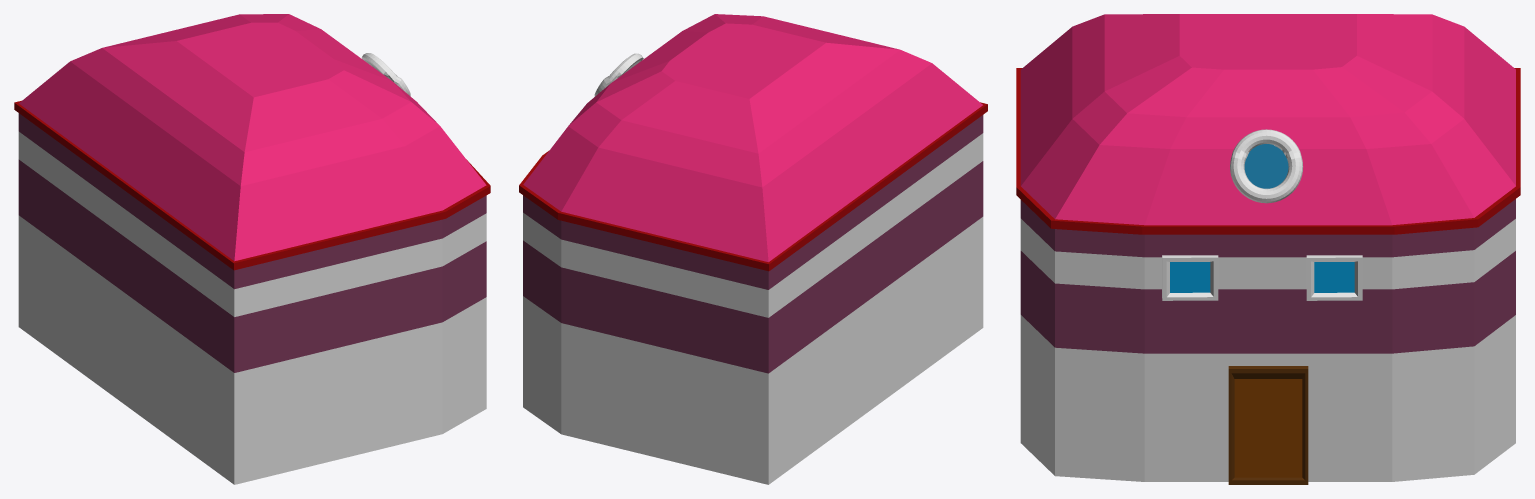
The model's file is center (1).fbx.
The picture shows the model from 3 angles, left to right: view 1: azimuth 30°, elevation 25°; view 2: azimuth 150°, elevation 25°; view 3: azimuth 270°, elevation 25°; orthographic projection. The views are drawn at different scales.
Visible parts, largest first — view 1: Cube, Torus; view 2: Cube, Torus; view 3: Cube, Cube.001, Cube.002, Torus.
Part boxes in pixels (x1,y1,x2,y2): Cube: (14,14,490,484); Torus: (361,53,410,96); Cube: (519,14,987,484); Torus: (594,53,643,96); Cube: (1016,14,1520,481); Cube.001: (1228,366,1308,484); Cube.002: (1162,255,1362,300); Torus: (1230,129,1302,203).
Bounding box in the file's own units: 489 × 517 × 653.
